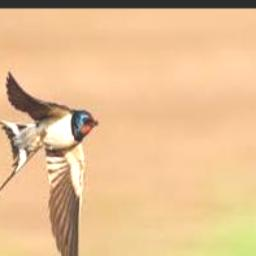Swallow: (0, 71, 100, 256)
